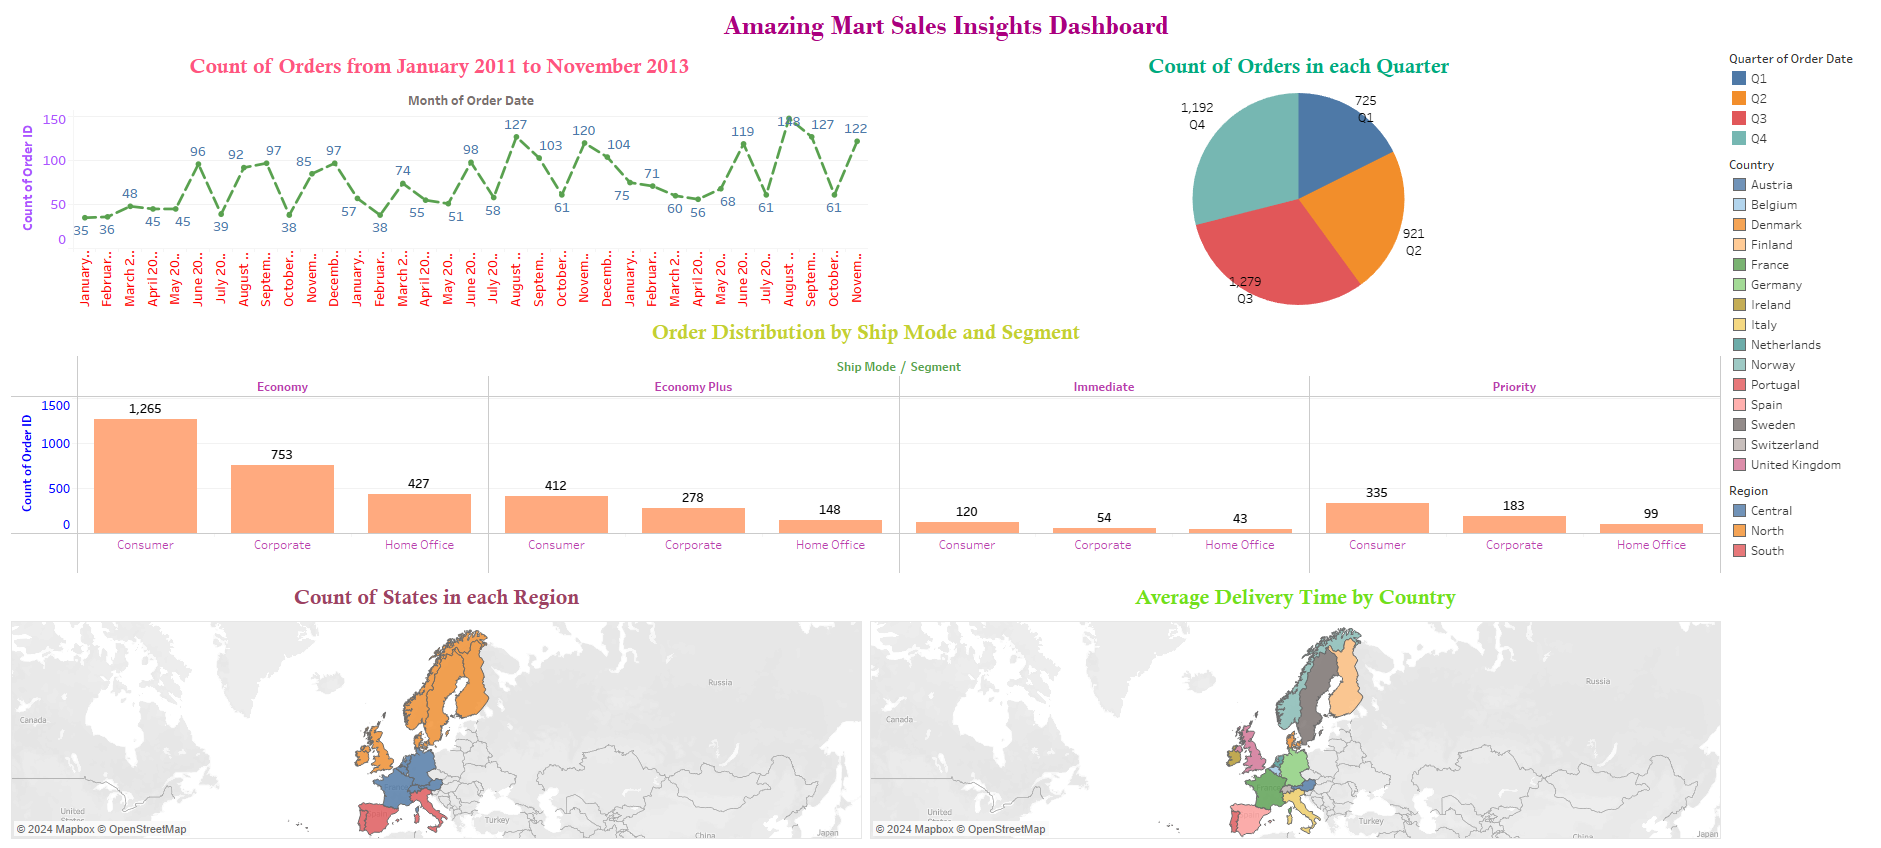

The dashboard page shown, as its layout file describes it:
{"tool":"tableau","page":{"name":"Dashboard 1","canvas":[1000,1000],"units":"permille","ordinal":0},"visuals":[{"type":"title","box":[4.7,9.4,990.6,48]},{"type":"worksheet","title":"Sheet 1","mark":"Line","rows":["Order ID"],"cols":["Order Date"],"box":[4.7,57.4,451.6,311]},{"type":"worksheet","title":"Sheet 2","mark":"Area","rows":["Order ID"],"cols":["Order Date"],"box":[456.3,57.4,445.4,311]},{"type":"legend","title":"Sheet 2","param":"[federated.1osos4j1fj54mn11jogwj1r8g14z].[qr:Order Date:ok]","box":[901.7,57.4,93.6,25.8]},{"type":"legend","title":"Sheet 4","param":"[federated.1osos4j1fj54mn11jogwj1r8g14z].[none:Country:nk]","box":[901.7,83.1,93.6,381.7]},{"type":"worksheet","title":"Sheet 5","mark":"Bar","rows":["Order ID"],"cols":["Ship Mode","Segment"],"box":[4.7,368.4,897,311.1]},{"type":"legend","title":"Sheet 3","param":"[federated.1osos4j1fj54mn11jogwj1r8g14z].[none:Region:nk]","box":[901.7,464.9,93.6,100.7]},{"type":"worksheet","title":"Sheet 3","mark":"Multipolygon","box":[4.7,679.5,448.4,311.2]},{"type":"worksheet","title":"Sheet 4","mark":"Multipolygon","box":[453,679.5,448.7,311.2]}]}

Visuals, with their boxes on the dashboard's canvas, which has no fixed pixel size, in thousandths of its width and height (x1, y1, x2, y2). These are canvas units, not pixel positions in the 1881x848 screenshot, which may show the page scaled, cropped or inside an application window:
title: <box>5,9,995,57</box>
"Sheet 1" worksheet (Line marks): <box>5,57,456,368</box>
"Sheet 2" worksheet (Area marks): <box>456,57,902,368</box>
"Sheet 2" legend: <box>902,57,995,83</box>
"Sheet 4" legend: <box>902,83,995,465</box>
"Sheet 5" worksheet (Bar marks): <box>5,368,902,680</box>
"Sheet 3" legend: <box>902,465,995,566</box>
"Sheet 3" worksheet (Multipolygon marks): <box>5,680,453,991</box>
"Sheet 4" worksheet (Multipolygon marks): <box>453,680,902,991</box>
